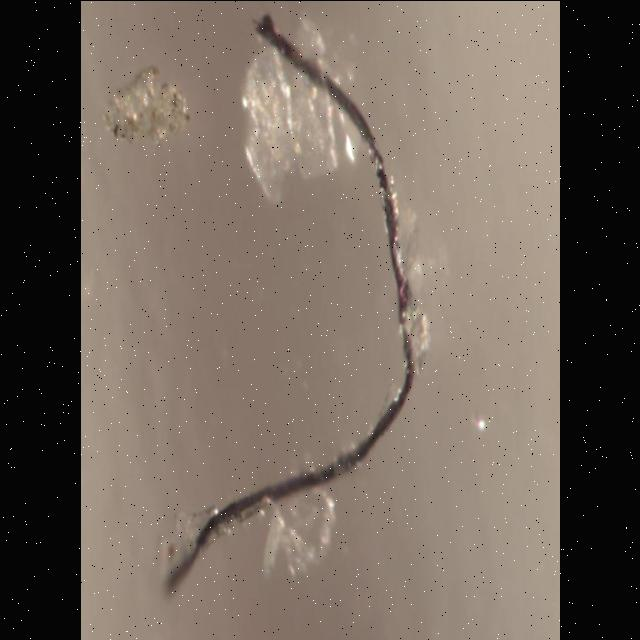Fibre: (159, 9, 429, 594)
